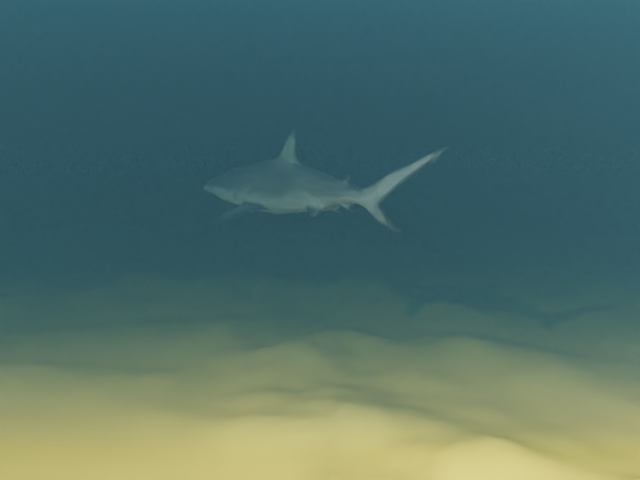Carribean Shark.001: (203, 128, 448, 232)
